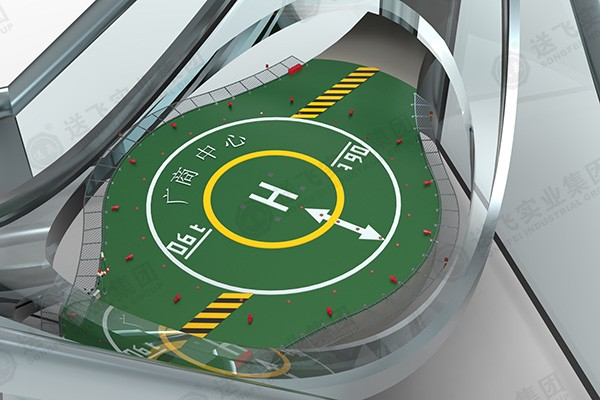H: (249, 182, 298, 213)
